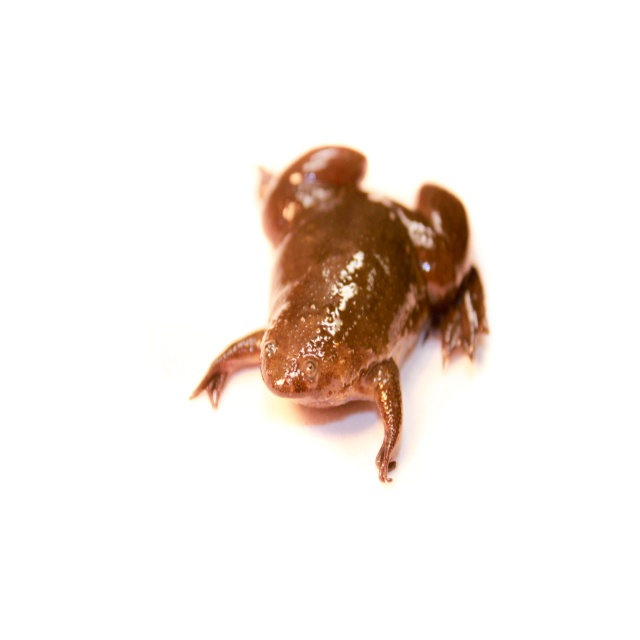Frog: (187, 146, 490, 483)
